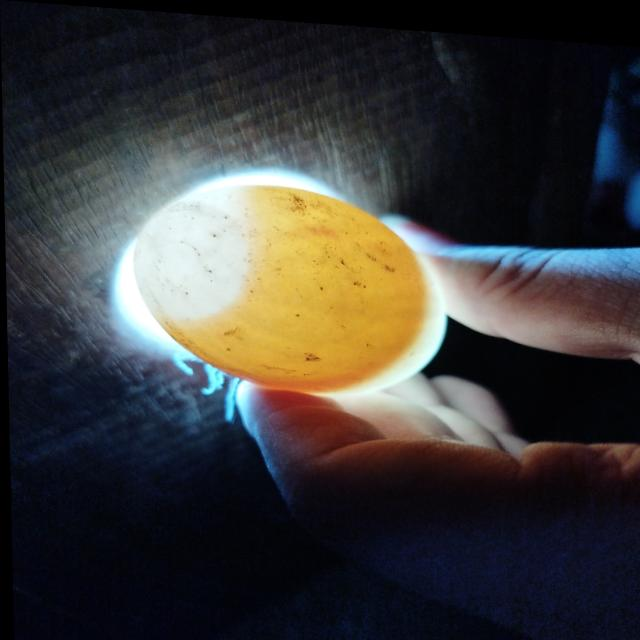Camara de Ar: (132, 194, 249, 317)
